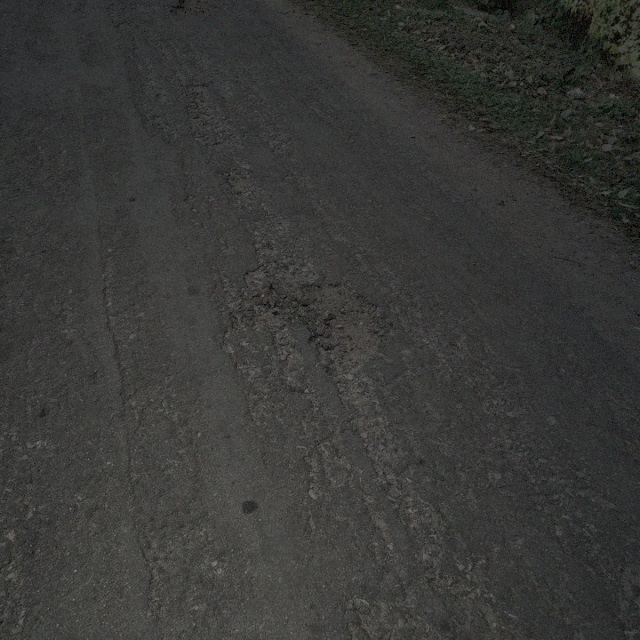pothole: (289, 279, 386, 380)
